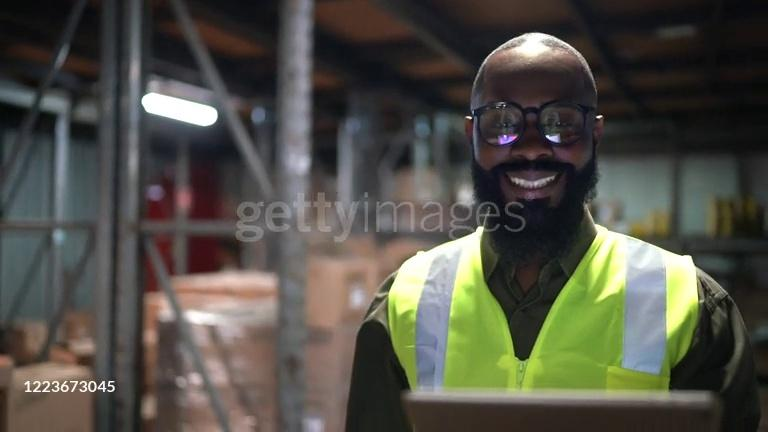person: (346, 34, 761, 432)
